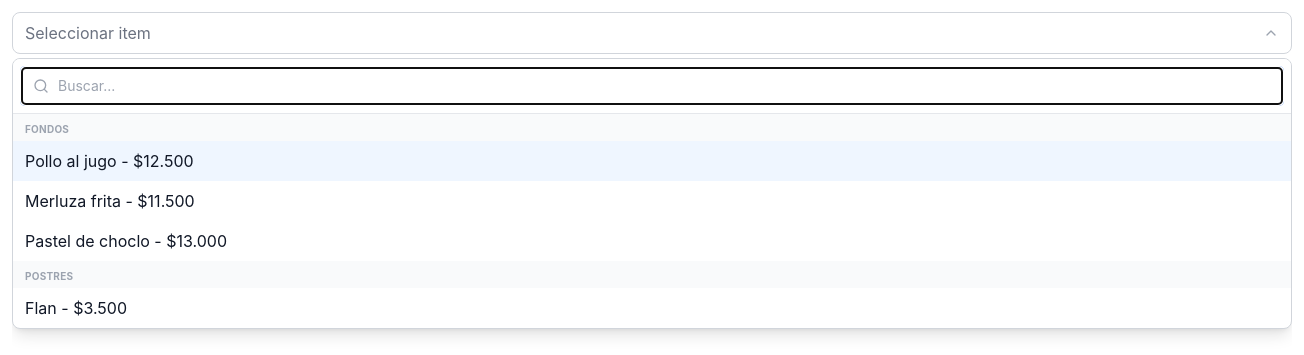
Test: AgregadorDeItems — el buscador › busca por nombre de sección
Type "postres" into the field with placeholder "Buscar...".
click(652, 86); type("postres")  # box [21,67,1283,105]
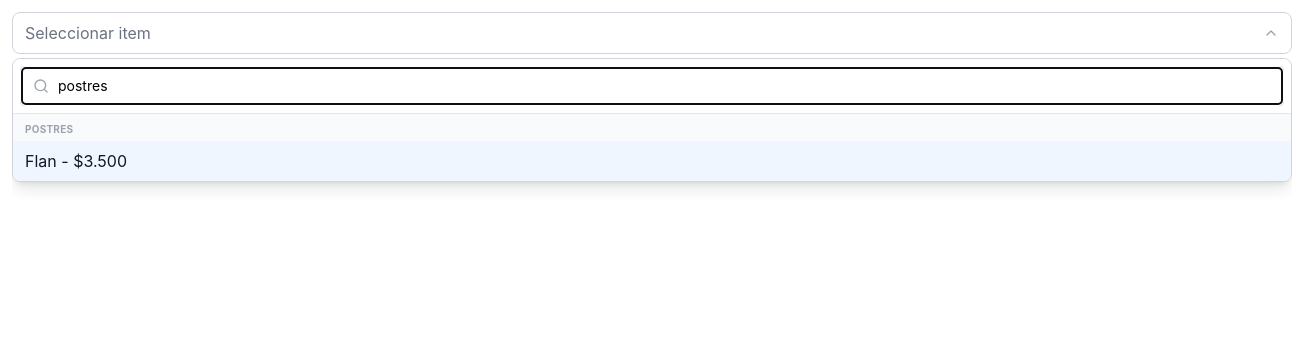
Expected: the button "Flan - $3.500" is shown, [13,141,1291,181]
Result: the button "Pollo" is gone
